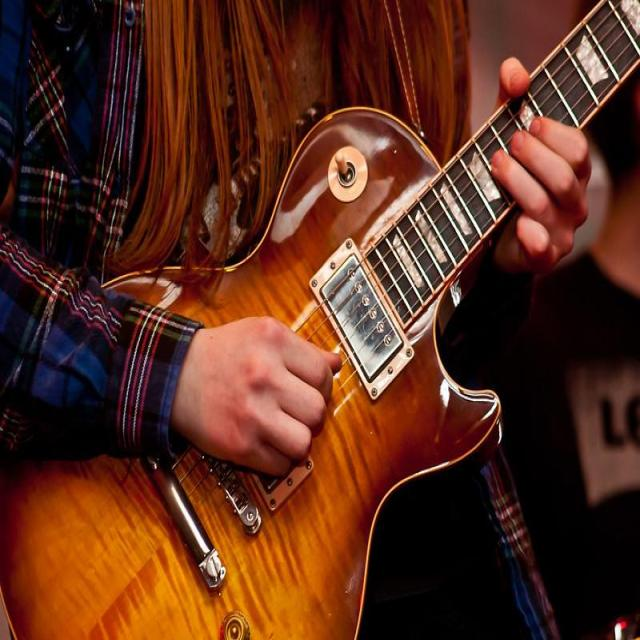guitar: (0, 3, 637, 637)
